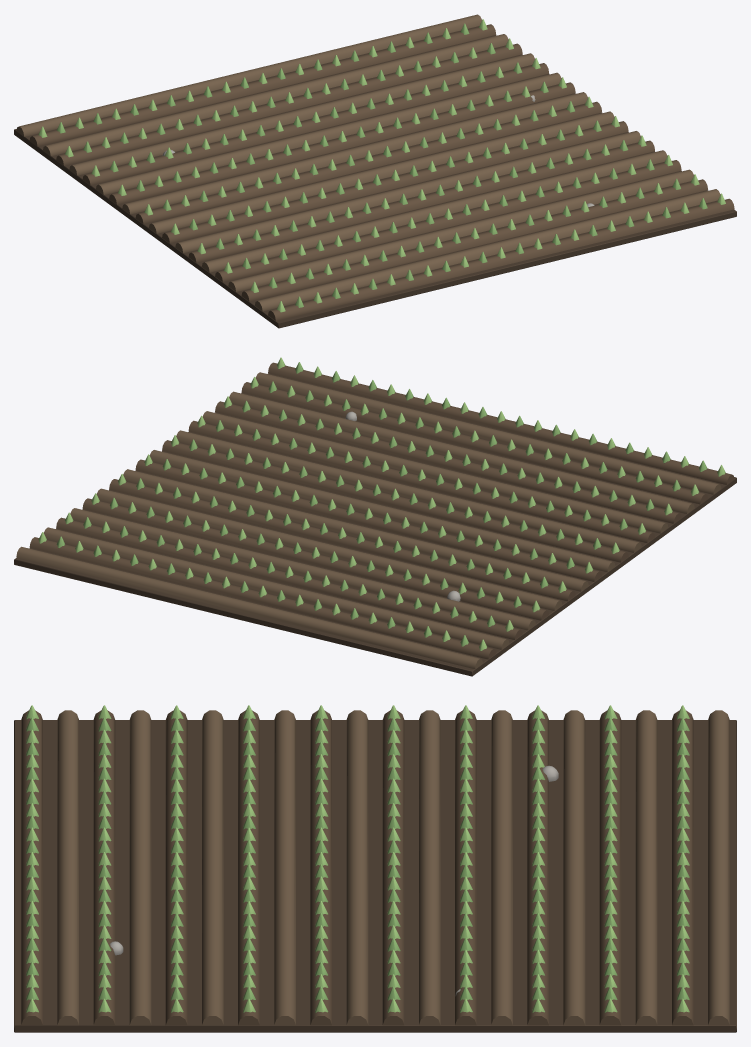
Rendered from th18_feld_modul.glb.
3 views of the same model, one above another, from view 1: azimuth 30°, elevation 25°; view 2: azimuth 150°, elevation 25°; view 3: azimuth 270°, elevation 25° (orthographic). The views are drawn at different scales.
Parts seen in each view (by area): view 1: Cube, Cylinder.001, Cylinder.011, Cylinder.013, Cylinder.005, Cylinder.019, Cylinder.017, Cylinder.009, Cylinder.007, Cylinder.003, Cylinder.015, Cylinder.010 (+9 smaller); view 2: Cube, Cylinder.019, Cylinder.005, Cylinder.007, Cylinder.013, Cylinder.015, Cylinder.003, Cylinder.011, Cylinder.009, Cylinder.001, Cylinder.017, Cylinder.006 (+9 smaller); view 3: Cube, Cylinder.003, Cylinder.009, Cylinder.015, Cylinder.017, Cylinder.001, Cylinder.013, Cylinder.005, Cylinder.007, Cylinder.011, Cylinder.019, Cylinder.004 (+9 smaller).
Boxes of the visible parts, x1,y1,x2,y2 form: Cube: (14, 26, 736, 328); Cylinder.001: (254, 189, 720, 311); Cylinder.011: (122, 92, 587, 214); Cylinder.013: (96, 72, 561, 194); Cylinder.005: (201, 150, 667, 272); Cylinder.019: (16, 14, 481, 136); Cylinder.017: (43, 34, 508, 156); Cylinder.009: (149, 111, 614, 233); Cylinder.007: (175, 131, 640, 253); Cylinder.003: (228, 169, 693, 291); Cylinder.015: (69, 53, 534, 175); Cylinder.010: (135, 101, 601, 224); Cube: (14, 373, 736, 676); Cylinder.019: (16, 546, 482, 668); Cylinder.005: (202, 411, 668, 533); Cylinder.007: (176, 430, 641, 552); Cylinder.013: (96, 488, 562, 610); Cylinder.015: (70, 508, 535, 630); Cylinder.003: (229, 391, 694, 513); Cylinder.011: (123, 469, 588, 591); Cylinder.009: (149, 450, 615, 572); Cylinder.001: (255, 372, 721, 494); Cylinder.017: (44, 527, 509, 649); Cylinder.006: (188, 420, 654, 542); Cube: (14, 720, 736, 1032); Cylinder.003: (129, 710, 151, 1025); Cylinder.009: (346, 710, 368, 1025); Cylinder.015: (563, 710, 585, 1025); Cylinder.017: (635, 710, 657, 1025); Cylinder.001: (57, 710, 78, 1025); Cylinder.013: (491, 710, 512, 1025); Cylinder.005: (202, 710, 223, 1025); Cylinder.007: (274, 710, 295, 1025); Cylinder.011: (419, 710, 440, 1025); Cylinder.019: (708, 710, 729, 1025); Cylinder.004: (165, 710, 187, 1025).
Size of the model in its own units: 10 by 0.435 by 10.
